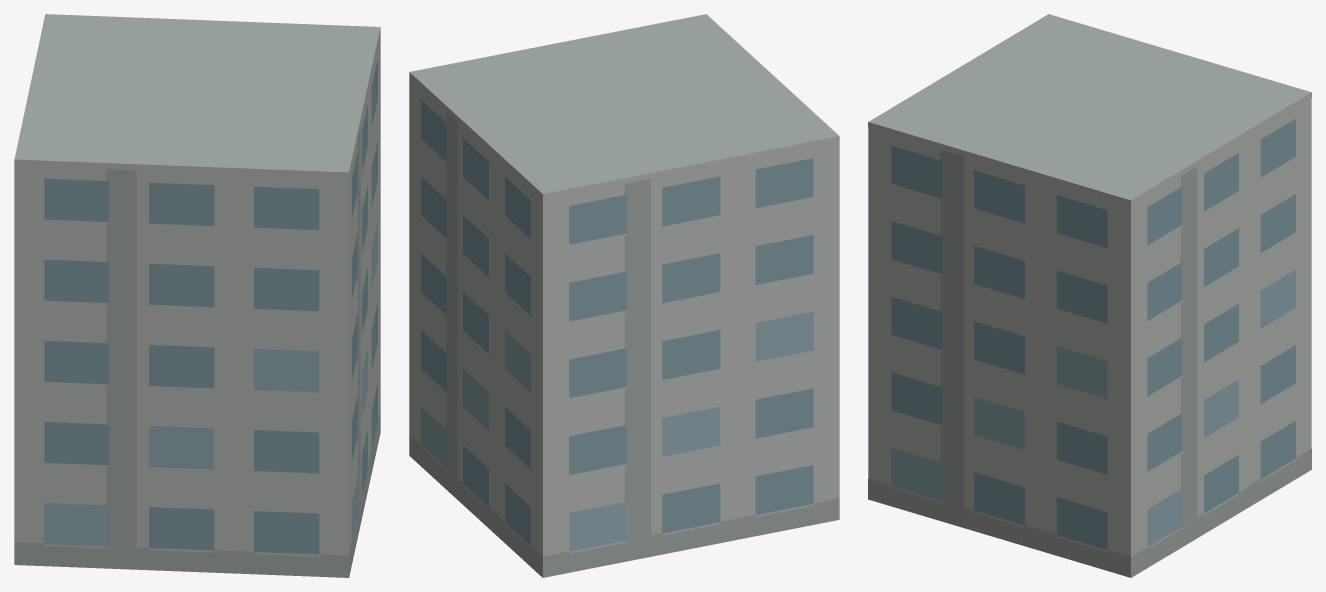
The model's file is survey-upis-32865968.glb.
The picture shows the model from 3 angles, left to right: view 1: azimuth 30°, elevation 25°; view 2: azimuth 150°, elevation 25°; view 3: azimuth 270°, elevation 25°; orthographic projection. The views are drawn at different scales.
Visible parts, largest first — view 1: survey-upis-32865968.tmp; view 2: survey-upis-32865968.tmp; view 3: survey-upis-32865968.tmp.
Part boxes in pixels (bbox=[...]): survey-upis-32865968.tmp: bbox=[14, 14, 380, 577]; survey-upis-32865968.tmp: bbox=[409, 14, 839, 577]; survey-upis-32865968.tmp: bbox=[868, 14, 1311, 577].
Size of the model in its own units: 16.85 by 15.9 by 16.94.
